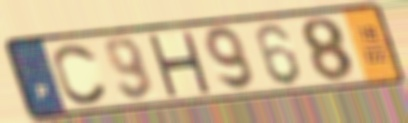6: (253, 20, 304, 89)
8: (300, 14, 357, 84)
9: (201, 25, 260, 93), (103, 34, 156, 104)
C: (51, 41, 111, 107)
H: (144, 30, 213, 97)
